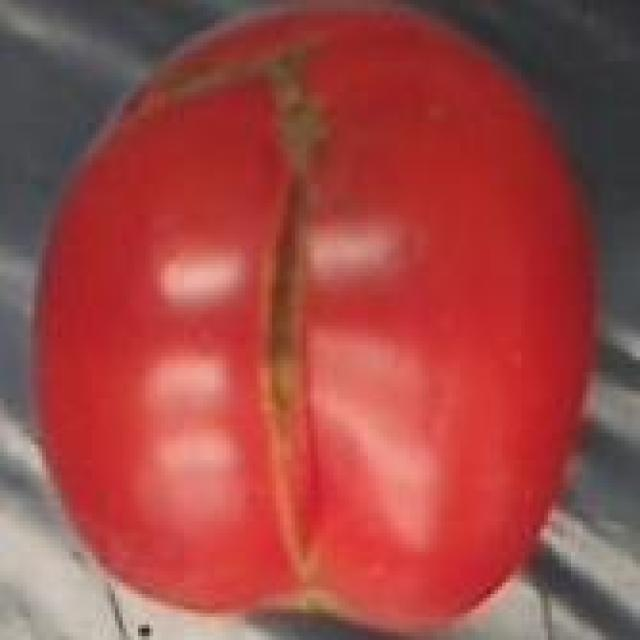overripe tomato: (30, 0, 605, 632)
